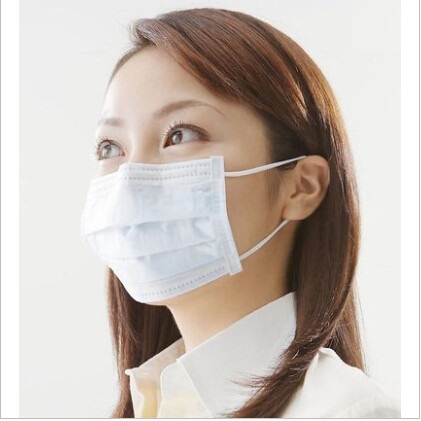face_mask: (86, 58, 273, 289)
